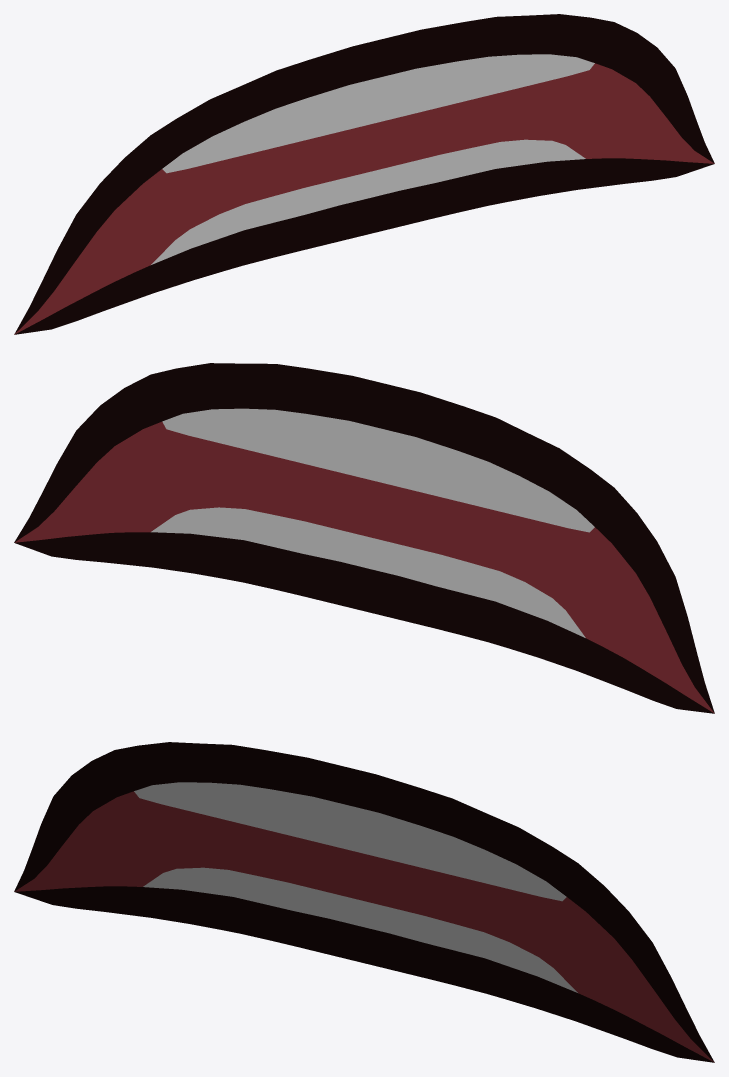
Rendered from flip_u.glb.
The picture shows the model from 3 angles, top to bottom: view 1: azimuth 30°, elevation 25°; view 2: azimuth 150°, elevation 25°; view 3: azimuth 330°, elevation 25°; orthographic projection.
Visible parts, largest first — view 1: flip_u; view 2: flip_u; view 3: flip_u.
Boxes of the visible parts, left/top/right/bottom form: flip_u: left=14, top=14, right=714, bottom=334; flip_u: left=14, top=363, right=714, bottom=713; flip_u: left=14, top=742, right=714, bottom=1062.
Size of the model in its own units: 0.0878 by 0.0278 by 0.00495.
